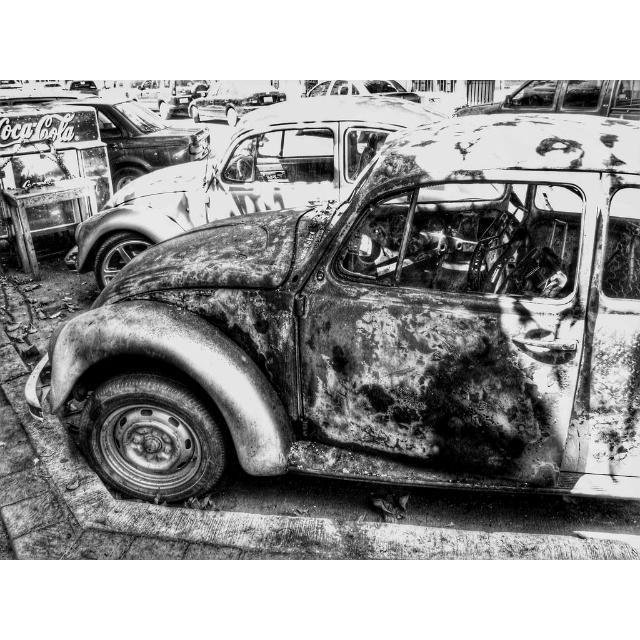bonnet-dent: (112, 190, 333, 295)
doorouter-dent: (294, 198, 587, 470), (591, 187, 639, 480)
fender-dent: (45, 300, 279, 465)
